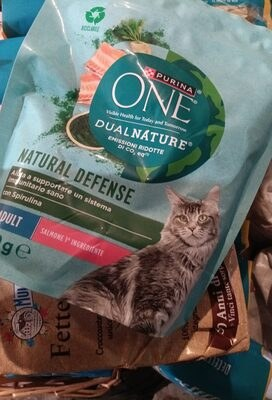purina One adulto salmone spirulina: (14, 20, 258, 380)
